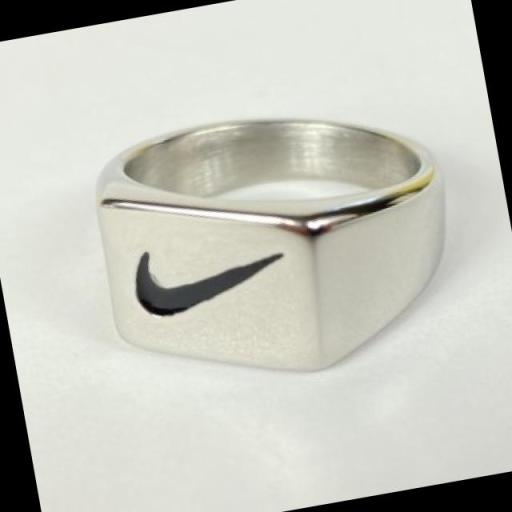Nike: (123, 223, 301, 343)
